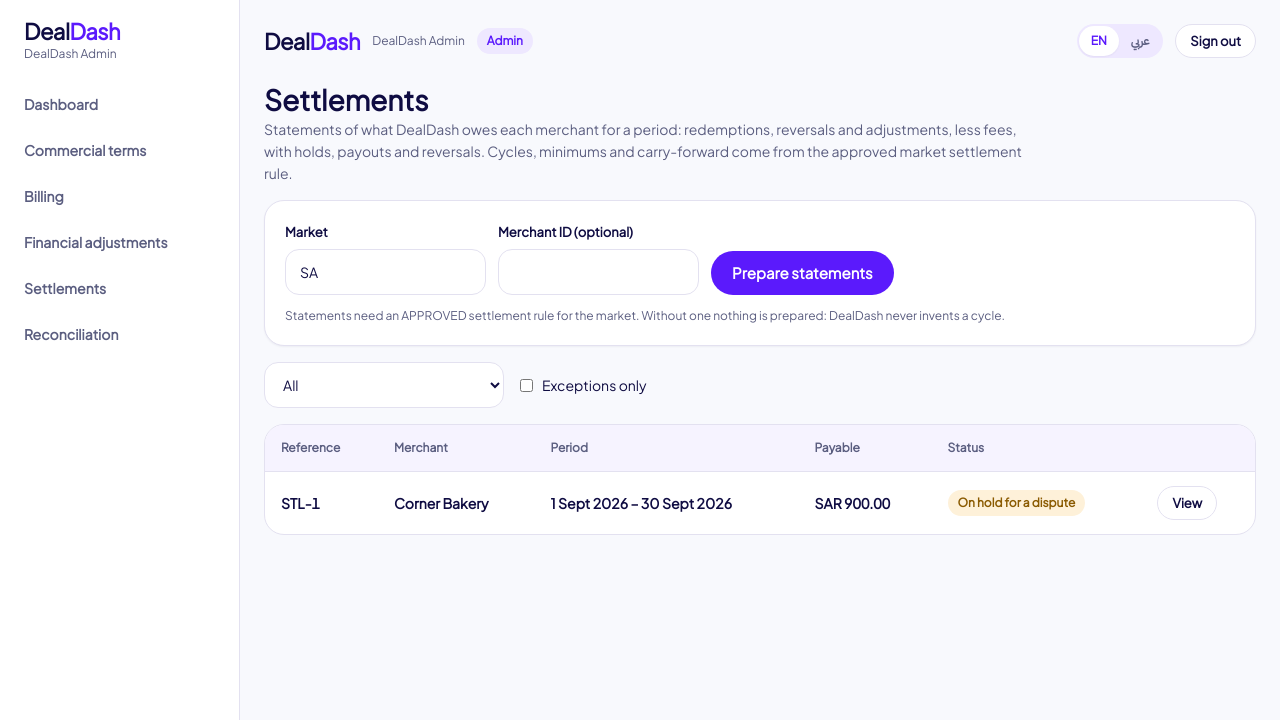
it: Stage 8 admin operations › settlements: a held statement shows the financial-hold state and only a release (with a reason)
Expected: the row with test id "set-STL-1" shows "On hold for a dispute", [958,495,1075,510]
Click the button with test id "set-open-STL-1": (1187, 503) [1157,486,1217,520]
(page scrolled)
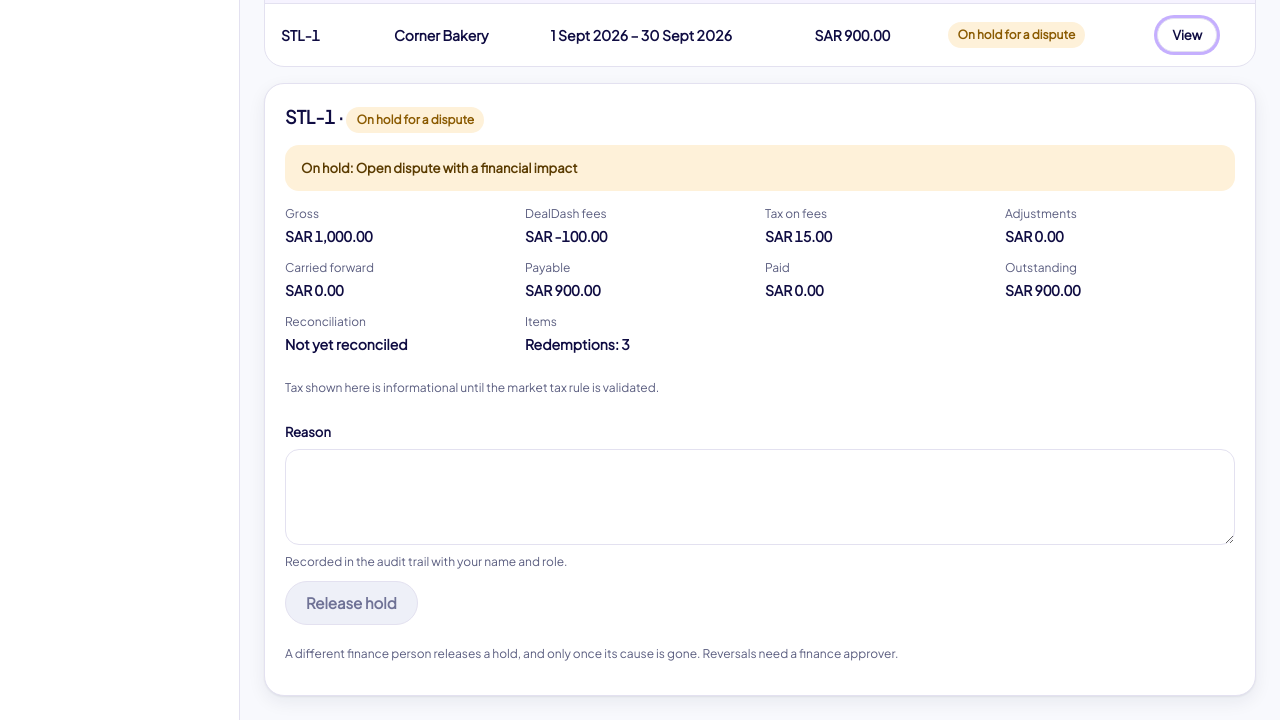
Result: the element with test id "set-hold-state" shows "Open dispute with a financial impact" at [356,160,577,176]
Result: the button with test id "set-release" is disabled at [285,581,418,625]
Result: the element with test id "set-detail" shows "Tax shown here is informational" at [285,380,659,395]
